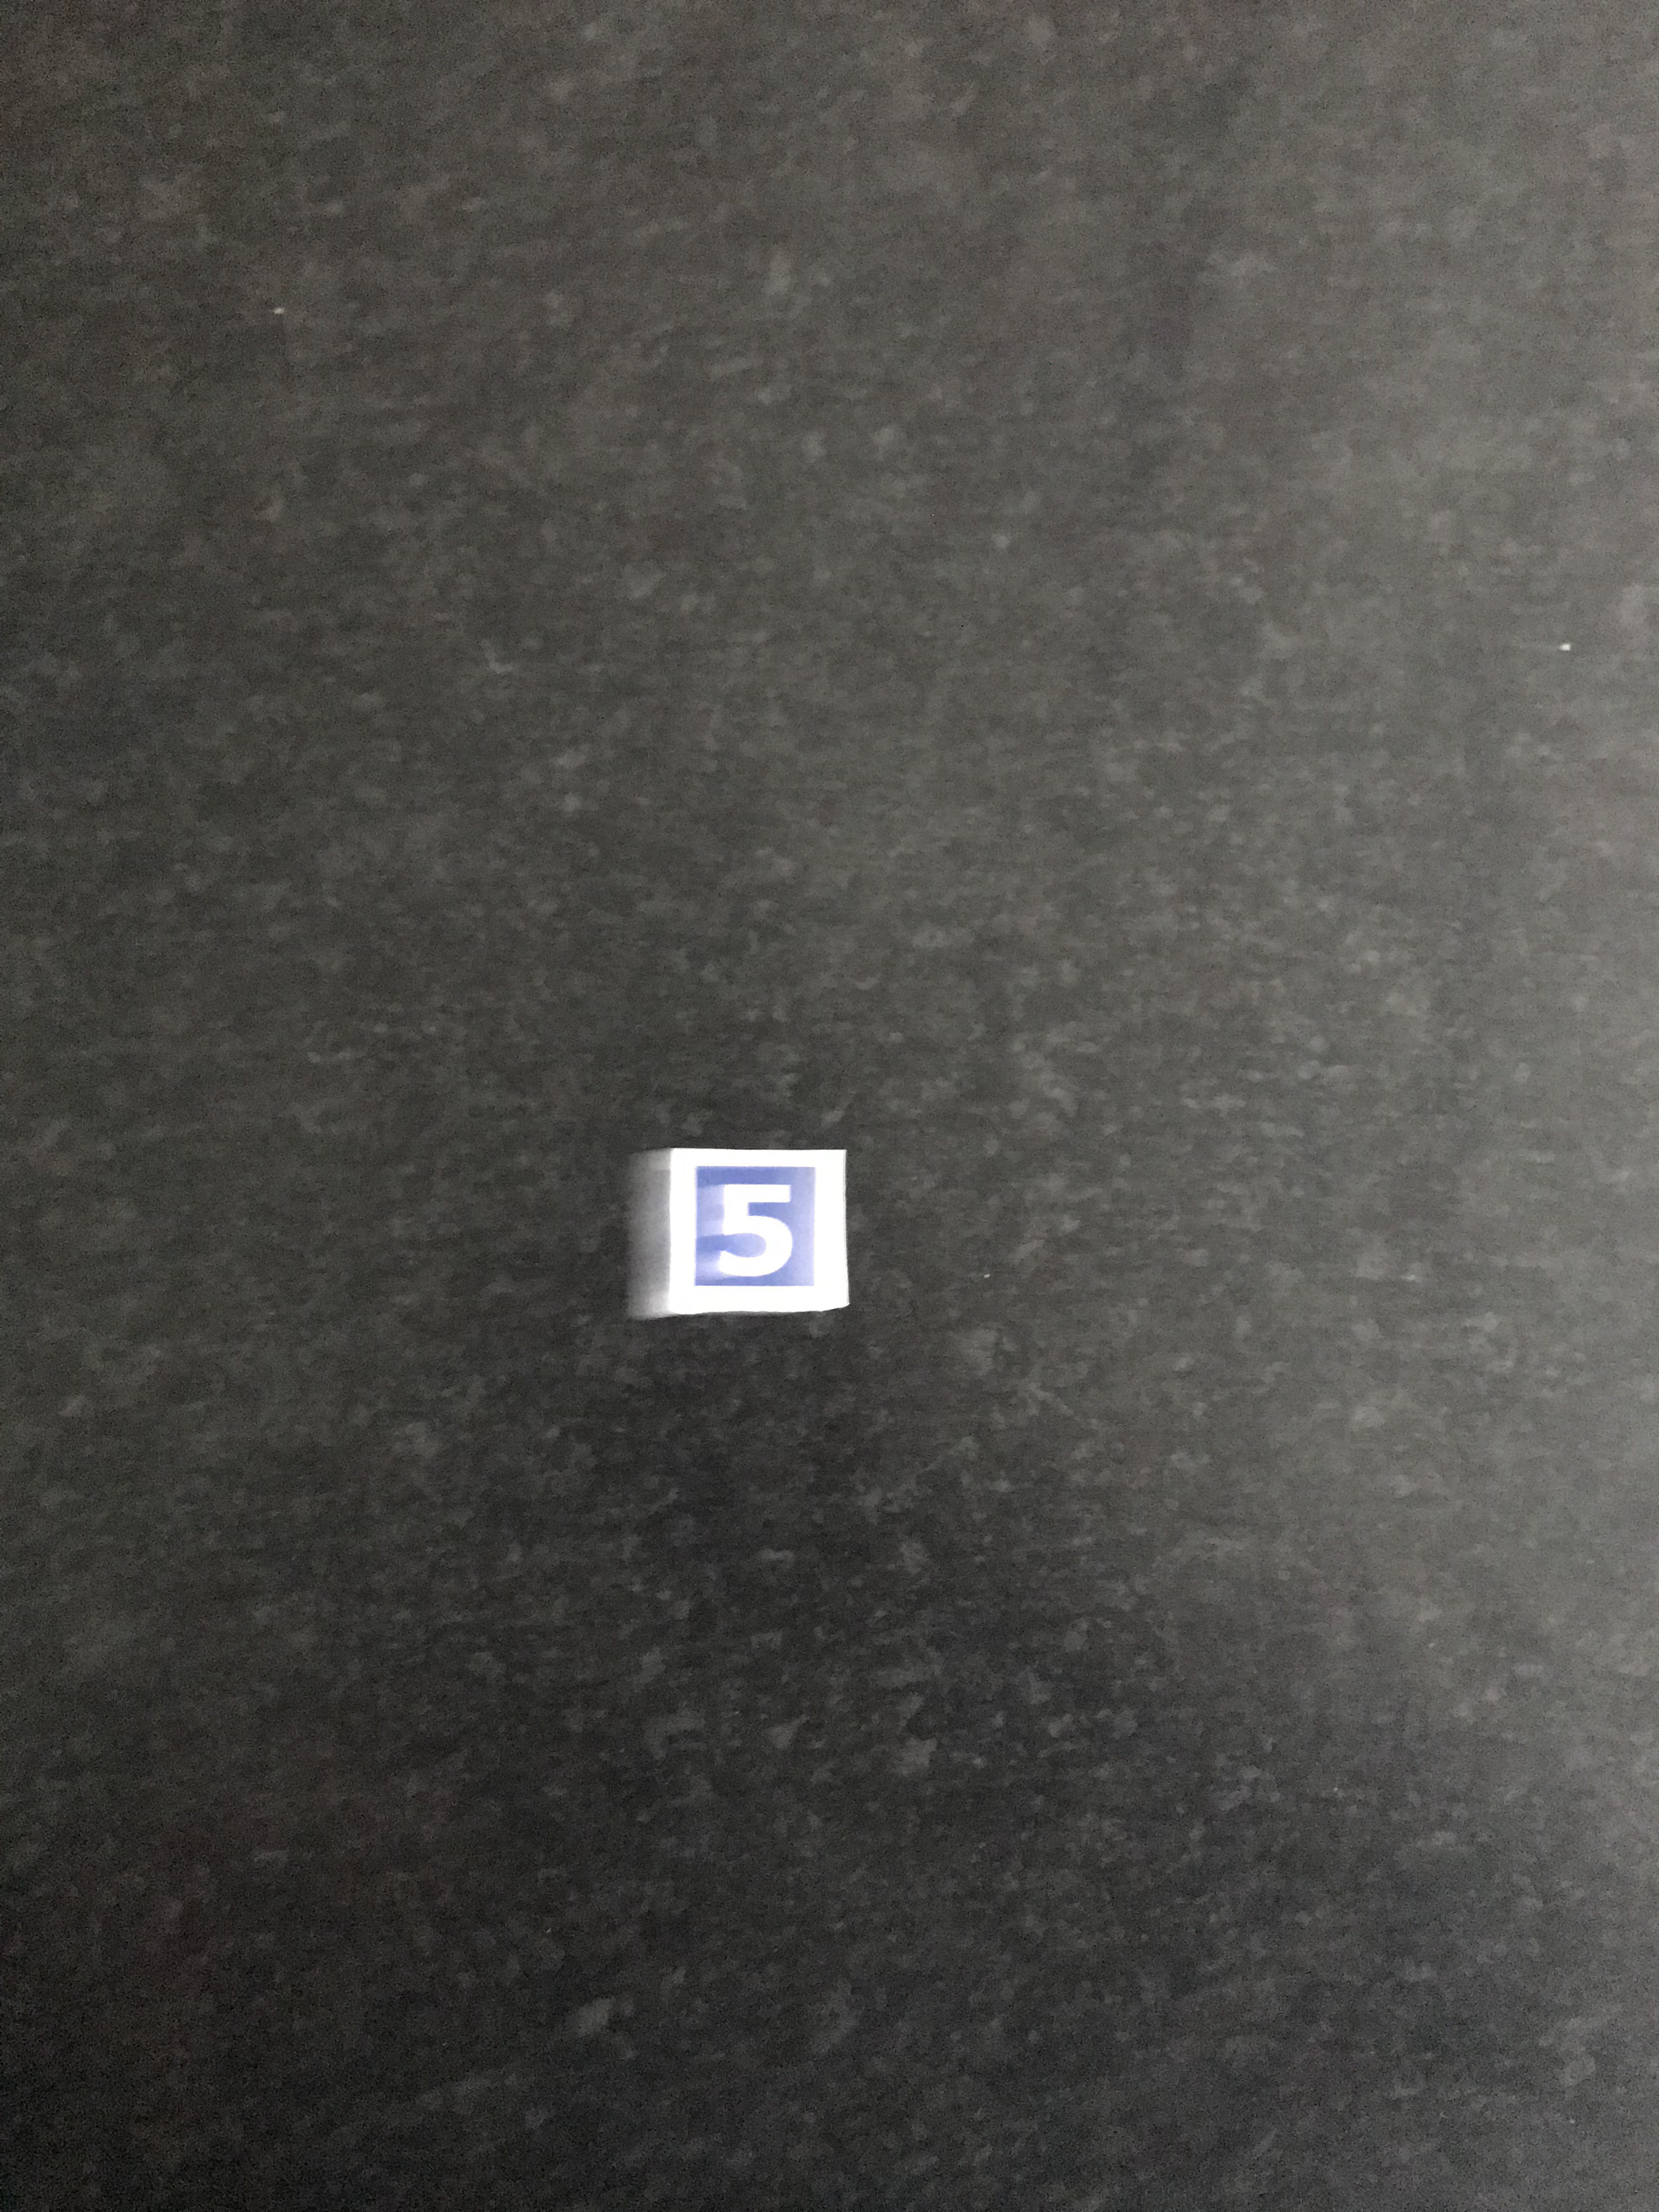blue marker: (659, 1127, 863, 1339)
